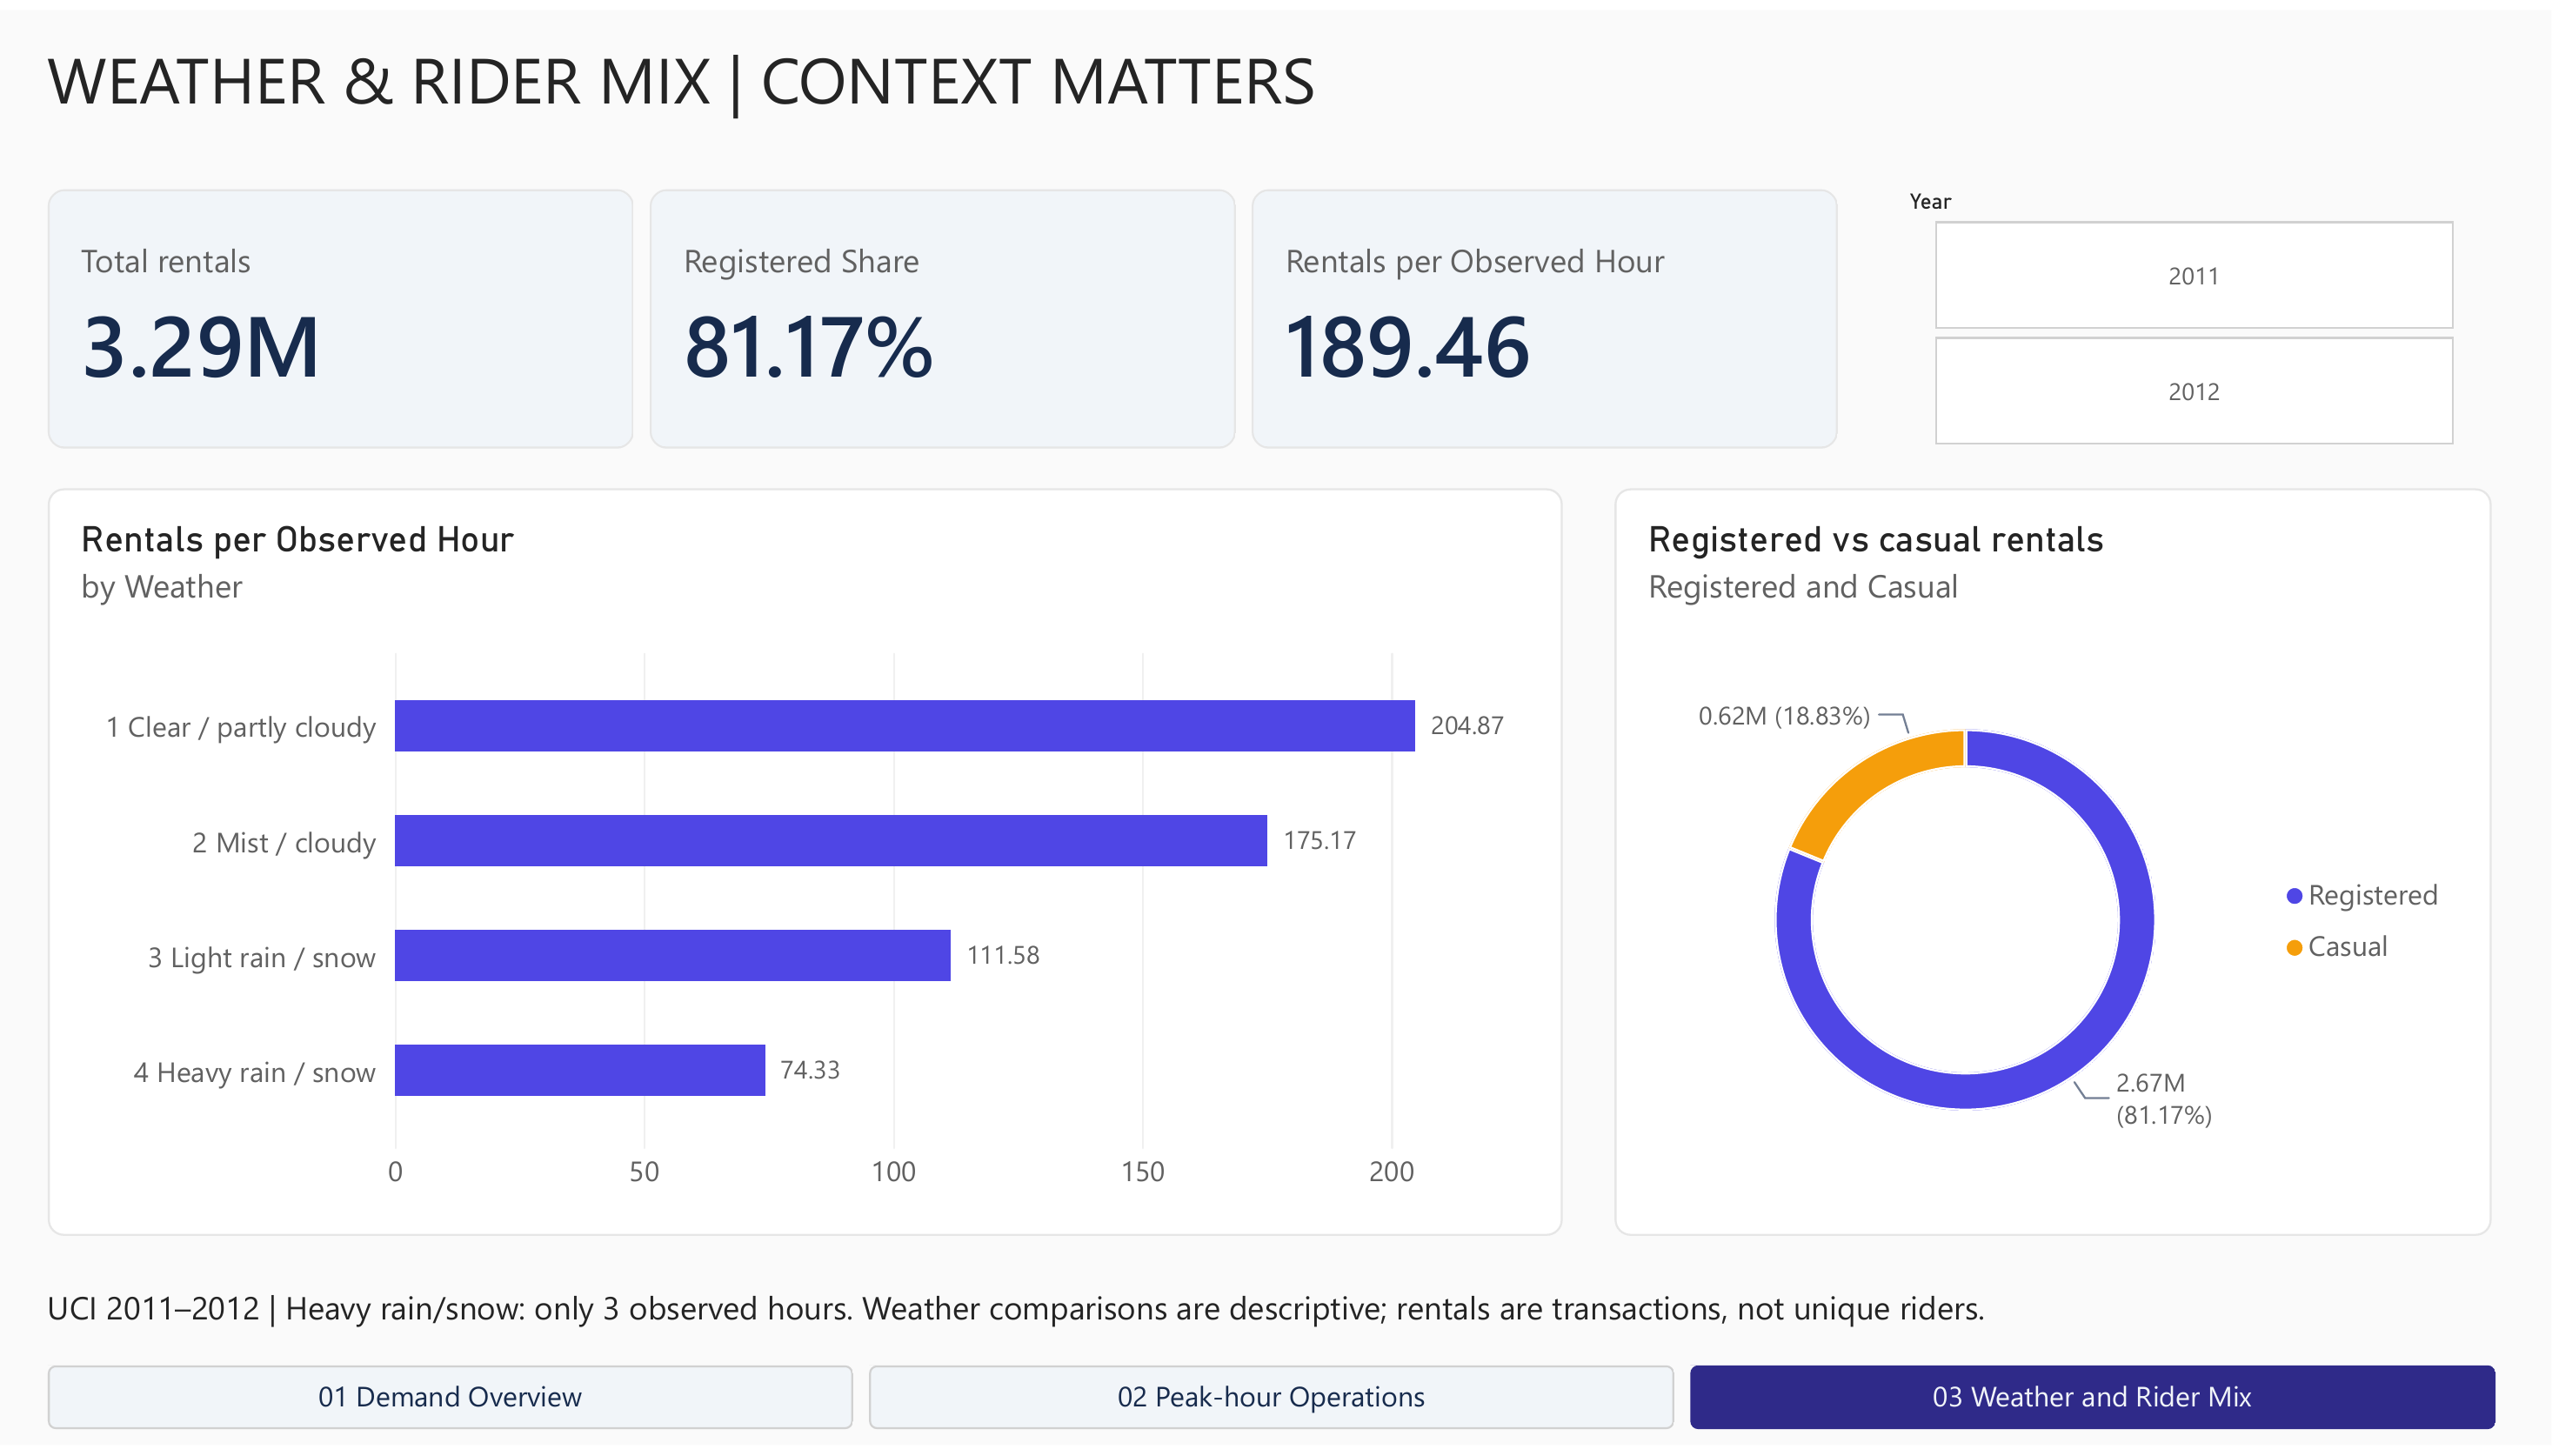

The dashboard page shown, as its layout file describes it:
{"tool":"powerbi","page":{"name":"03 Weather and Rider Mix","canvas":[1280,720],"ordinal":2},"visuals":[{"type":"textbox","box":[24,12,1230,72],"z":0},{"type":"cardVisual","fields":{"Data":["Sum(rentals.TotalRentals)","rentals.Registered Share","rentals.Rentals per Observed Hour"]},"box":[24,90,900,130],"z":1000},{"type":"textbox","box":[24,640,1230,50],"z":2000},{"type":"slicer","fields":{"Values":["rentals.Year"]},"box":[950,90,300,130],"z":3000},{"type":"clusteredBarChart","fields":{"Category":["rentals.Weather"],"Y":["rentals.Rentals per Observed Hour"]},"box":[24,240,760,375],"z":3001},{"type":"donutChart","title":"Registered vs casual rentals","fields":{"Y":["Sum(rentals.RegisteredRentals)","Sum(rentals.CasualRentals)"]},"box":[810,240,440,375],"z":3002},{"type":"pageNavigator","box":[24,680,1230,32],"z":3003}]}

Visuals, with their boxes in screenshot pixels (x1, y1, x2, y2), scaled from the page's 1280x720 canvas onto the 2552x1456 screenshot:
textbox: Rect(48, 24, 2500, 170)
cardVisual - Sum(rentals.TotalRentals) x rentals.Registered Share: Rect(48, 182, 1842, 445)
textbox: Rect(48, 1294, 2500, 1395)
slicer - rentals.Year: Rect(1894, 182, 2492, 445)
clusteredBarChart - rentals.Weather x rentals.Rentals per Observed Hour: Rect(48, 485, 1563, 1244)
"Registered vs casual rentals" donutChart: Rect(1615, 485, 2492, 1244)
pageNavigator: Rect(48, 1375, 2500, 1439)
